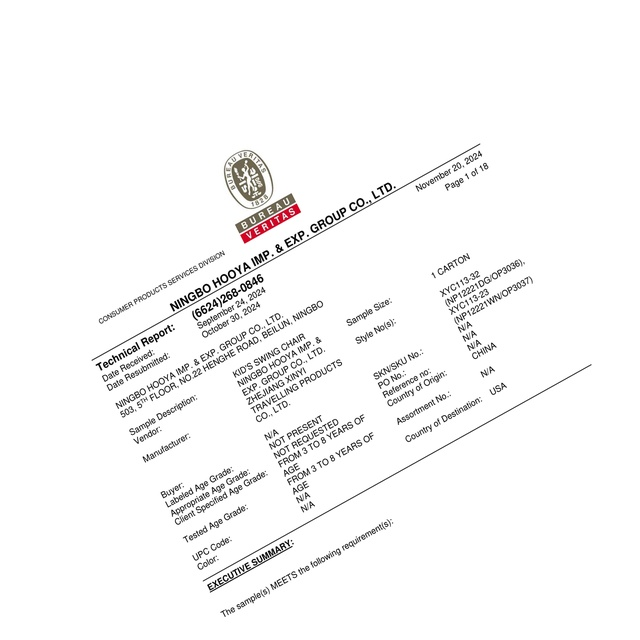bureau_veritas: (223, 148, 301, 242)
